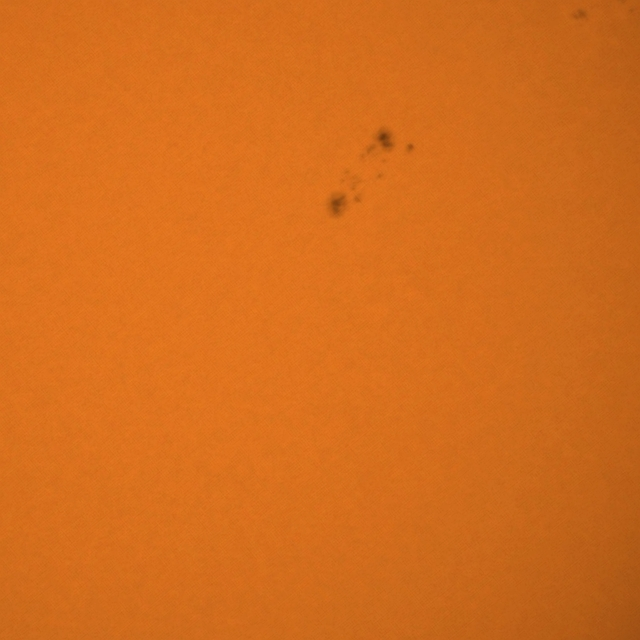sunspot: (361, 128, 398, 169), (326, 182, 364, 221), (571, 5, 589, 23), (405, 141, 416, 155)
